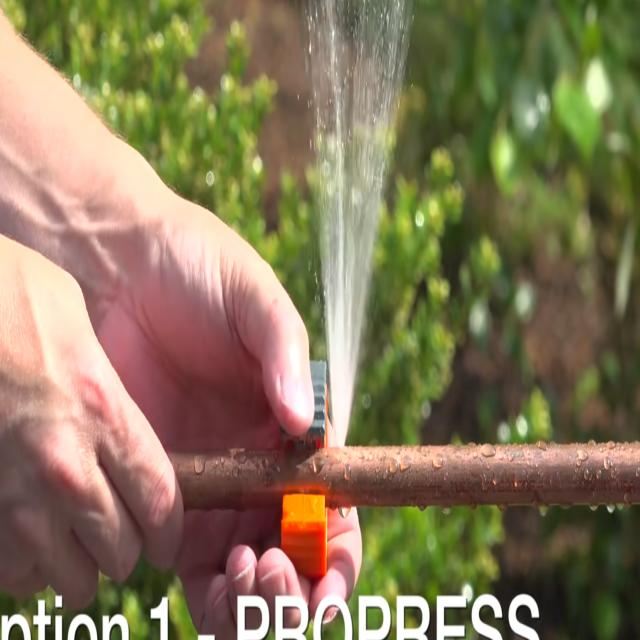leak: (306, 0, 411, 447)
